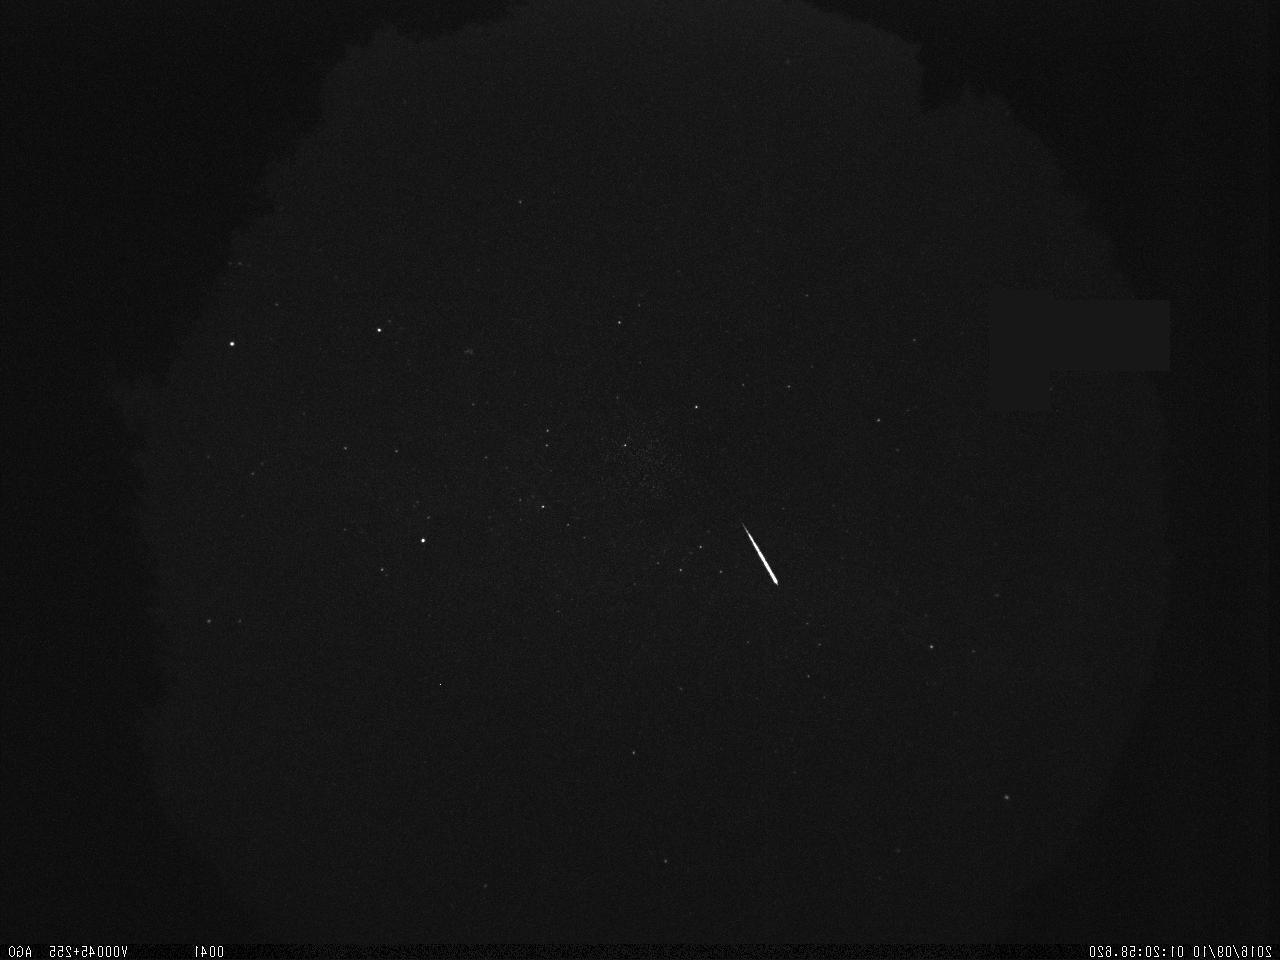meteor: (729, 504, 798, 598)
